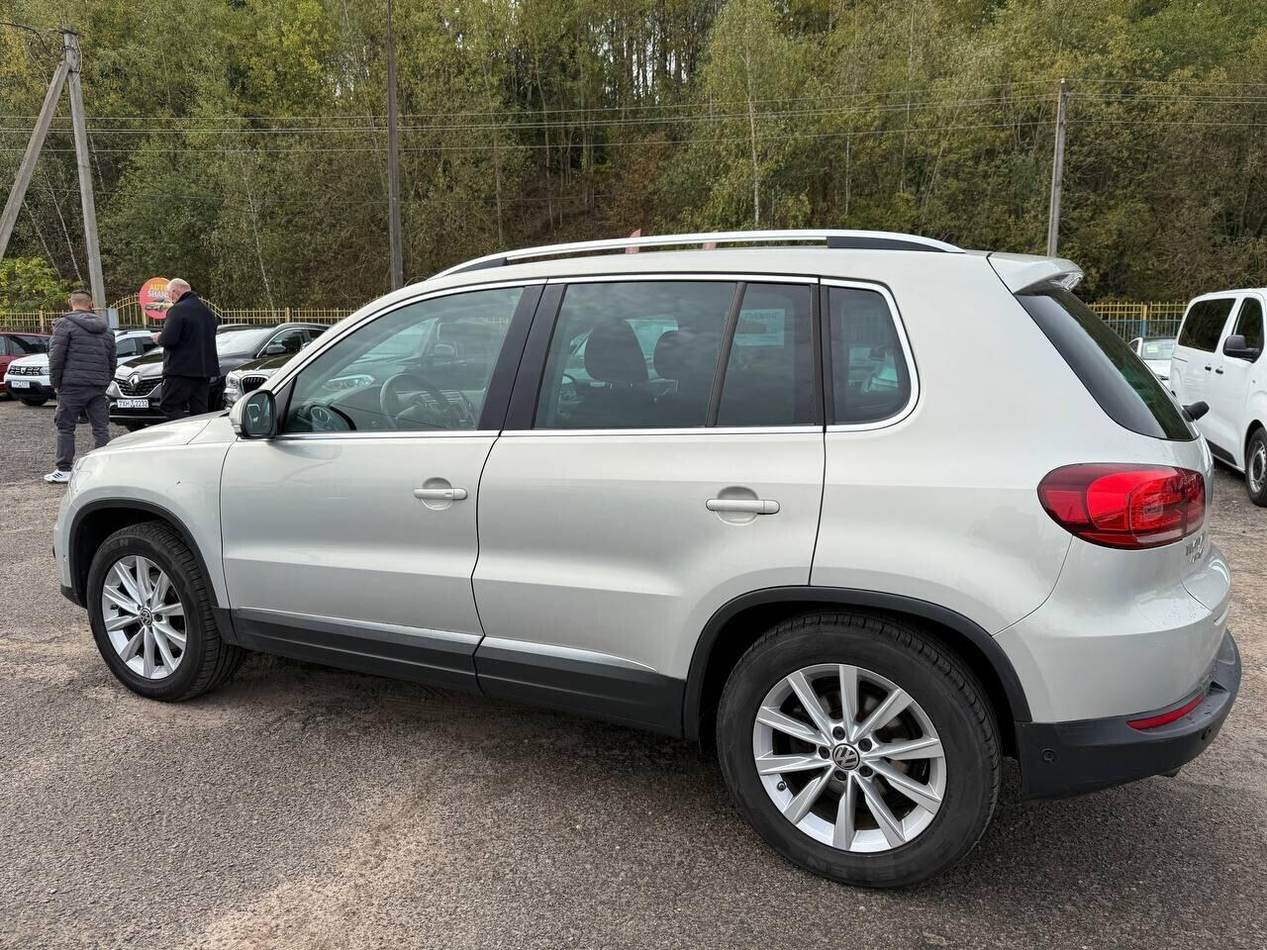Tiguan_2011-2018: (49, 241, 1232, 870)
